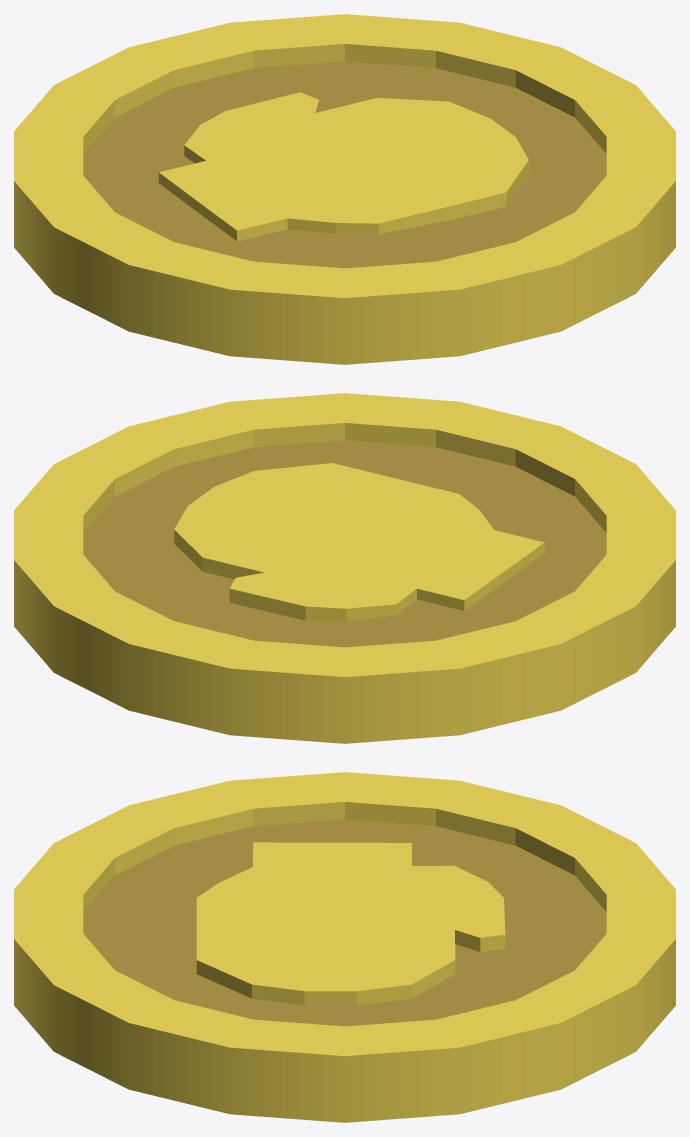
The model's file is coin 1.fbx.
3 renders of one model, top to bottom at view 1: azimuth 30°, elevation 25°; view 2: azimuth 150°, elevation 25°; view 3: azimuth 270°, elevation 25°, orthographic.
Parts seen in each view (by area): view 1: Object001; view 2: Object001; view 3: Object001.
Part boxes in pixels (left/top/right/bottom): Object001: left=14, top=14, right=675, bottom=364; Object001: left=14, top=393, right=675, bottom=743; Object001: left=14, top=772, right=675, bottom=1122.
Size of the model in its own units: 4.63 by 0.5064 by 4.56.
